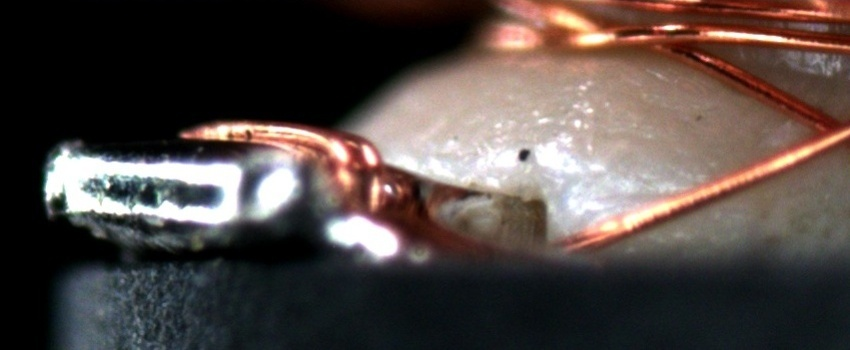CL: (780, 96, 848, 158)
DL: (594, 166, 715, 221)
TE: (177, 121, 389, 224)
